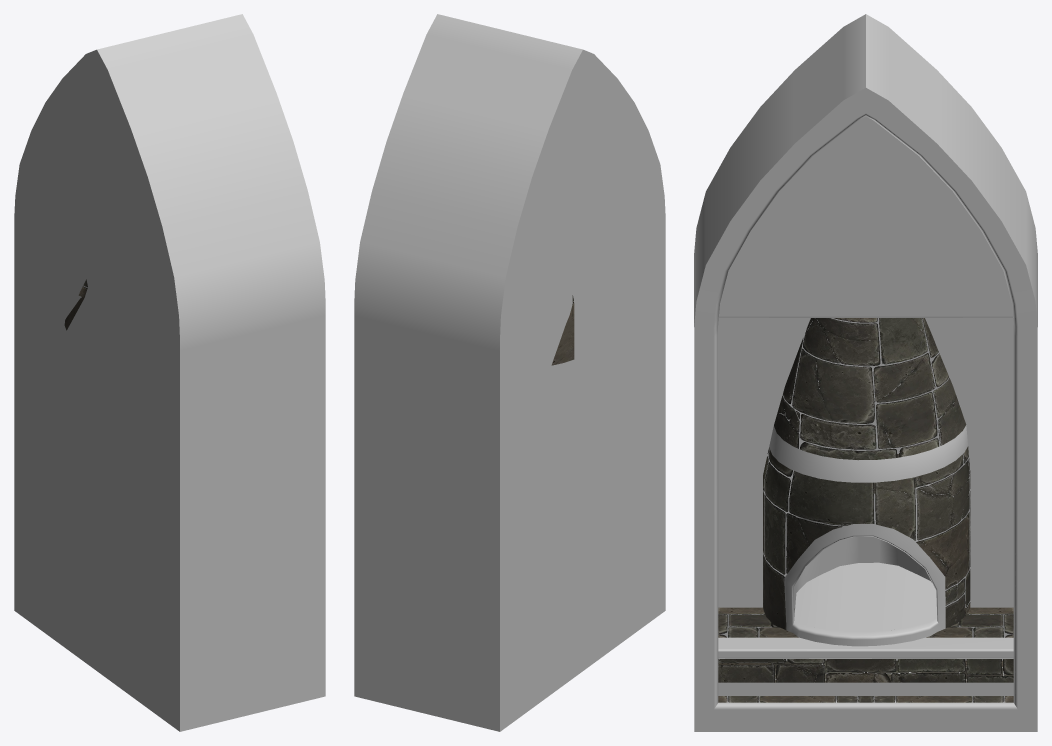
3 renders of one model, left to right at view 1: azimuth 30°, elevation 25°; view 2: azimuth 150°, elevation 25°; view 3: azimuth 270°, elevation 25°, orthographic. The views are drawn at different scales.
Visible parts, largest first — view 1: SM_Kitchen_Inner_06_LOD0; view 2: SM_Kitchen_Inner_06_LOD0; view 3: SM_Kitchen_Inner_06_LOD0.
Boxes of the visible parts, x1,y1,x2,y2 form: SM_Kitchen_Inner_06_LOD0: (14,14,325,731); SM_Kitchen_Inner_06_LOD0: (354,14,665,731); SM_Kitchen_Inner_06_LOD0: (694,14,1037,731).
Bounding box in the file's own units: 2.09 × 7.93 × 3.83.
